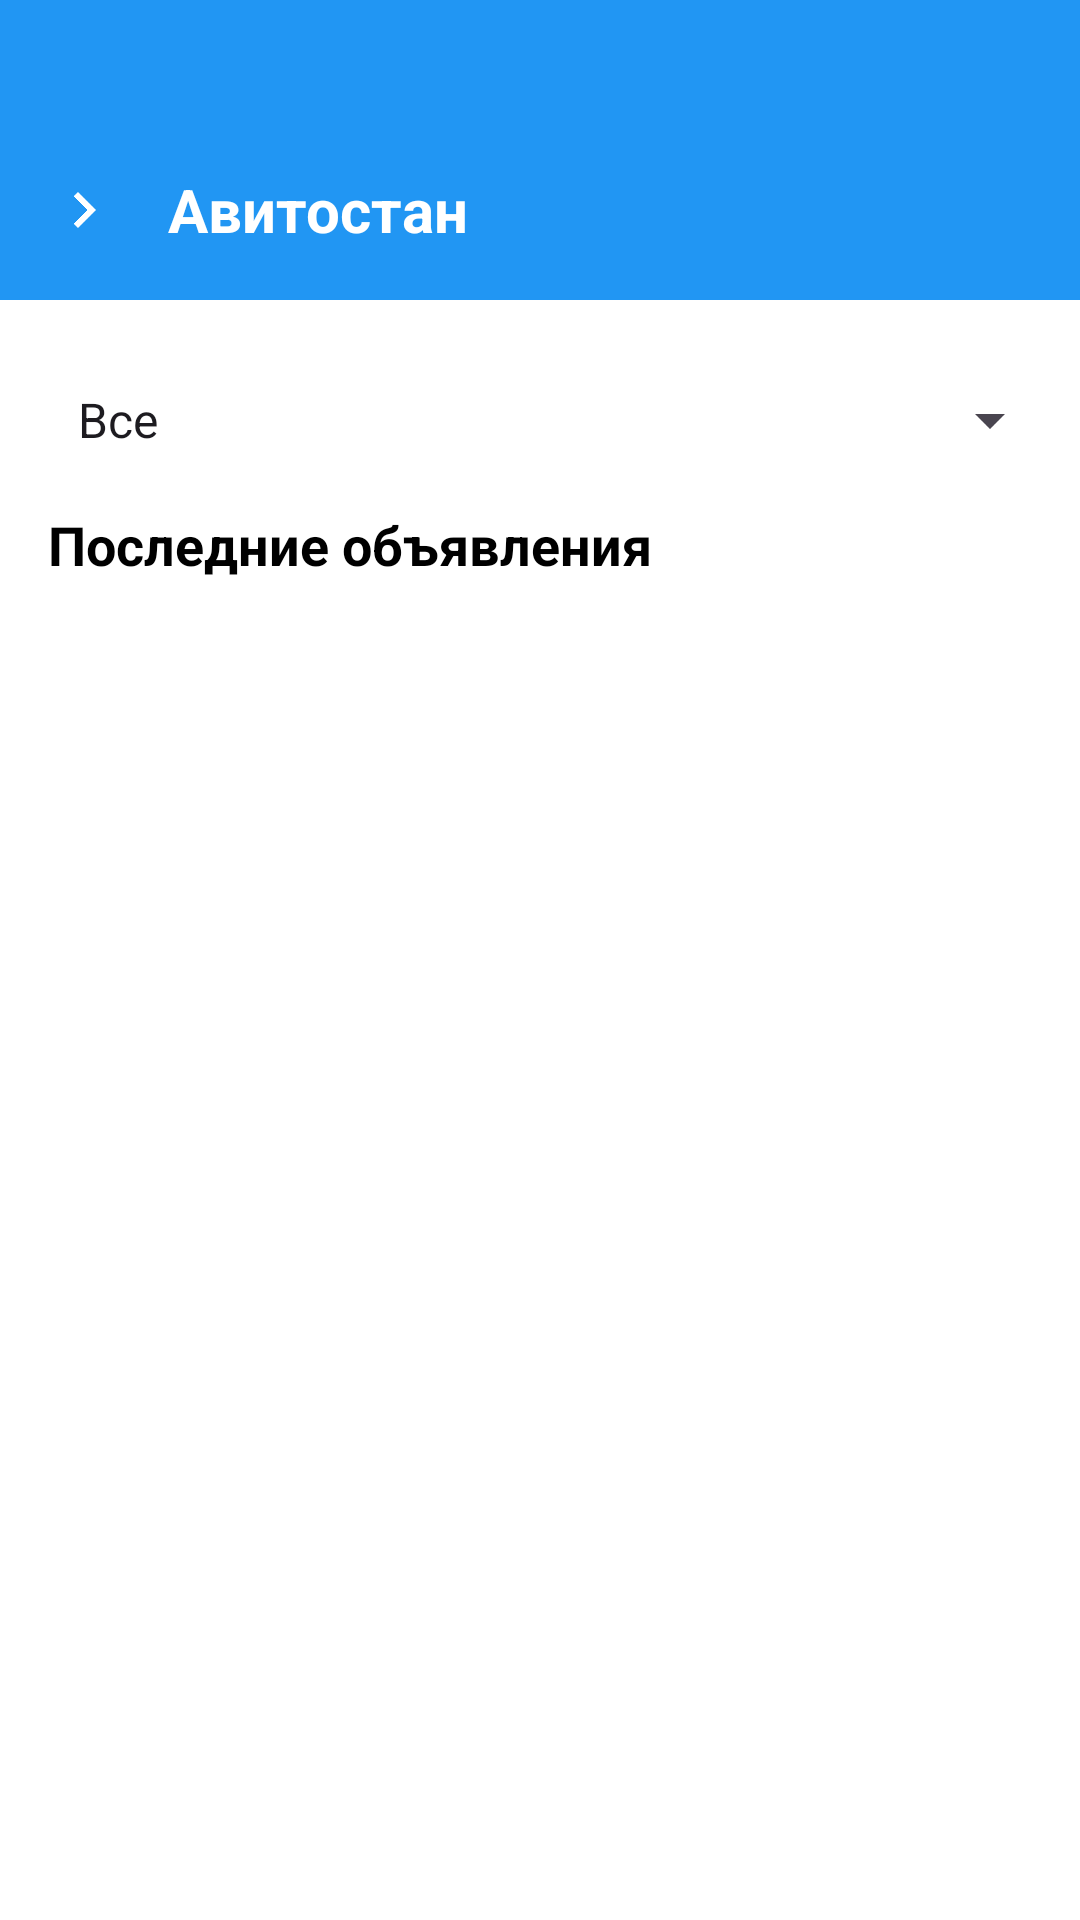

Named icons in this screenshot (1080px×1920px) and their bounding boxes, (x1, y1, x2, y2):
arrow right: (74, 192, 96, 228)
